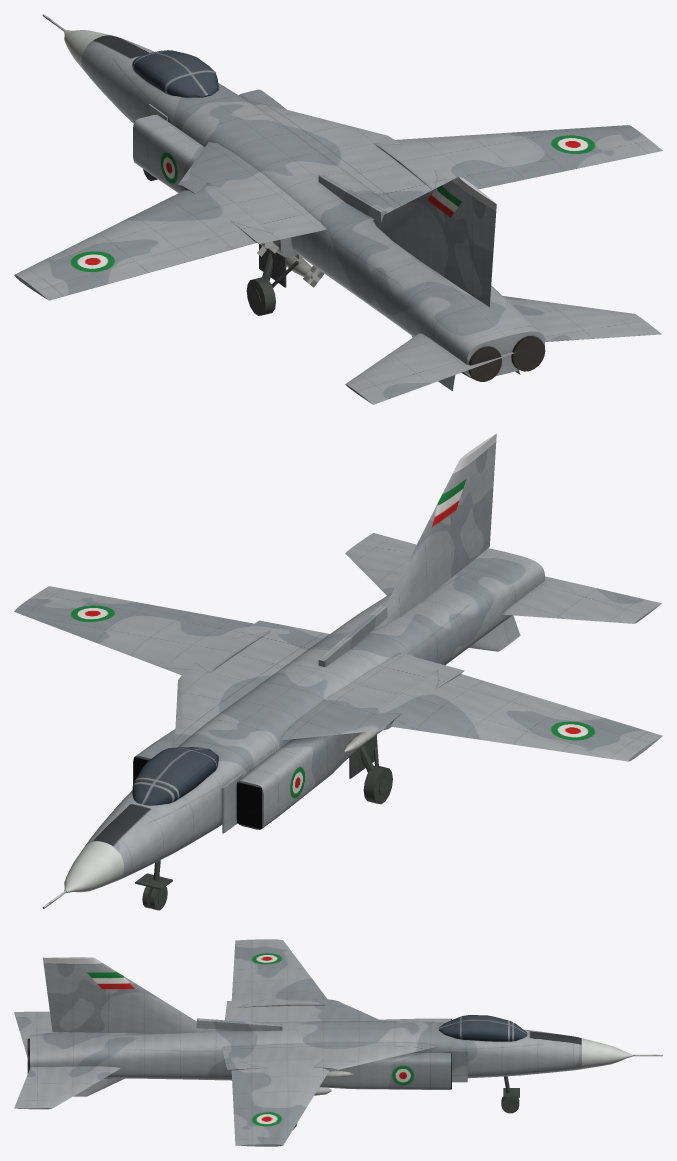
3 views of the same model, one above another, from view 1: azimuth 30°, elevation 25°; view 2: azimuth 150°, elevation 25°; view 3: azimuth 270°, elevation 25° (orthographic). The views are drawn at different scales.
Visible parts, largest first — view 1: Body, WingL, WingR; view 2: Body, WingL, WingR; view 3: Body, WingR, WingL.
Boxes of the visible parts, left/top/right/bottom form: Body: left=42, top=14, right=661, bottom=404; WingL: left=14, top=182, right=273, bottom=300; WingR: left=374, top=125, right=662, bottom=189; Body: left=42, top=433, right=661, bottom=910; WingL: left=372, top=670, right=662, bottom=761; WingR: left=14, top=586, right=269, bottom=675; Body: left=14, top=957, right=662, bottom=1129; WingR: left=231, top=1059, right=329, bottom=1146; WingL: left=231, top=939, right=327, bottom=1007.
Size of the model in its own units: 17.64 by 6.16 by 23.6.
Materials: 2 (1 with a texture image).
